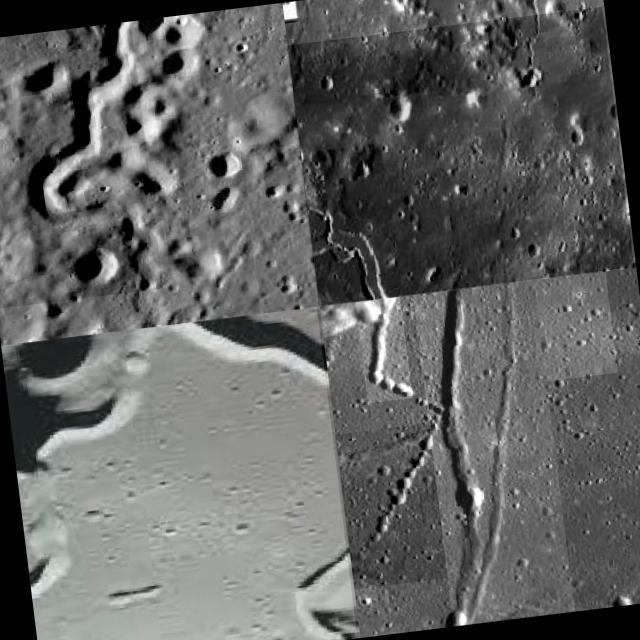rille: (0, 306, 356, 640), (286, 6, 634, 305), (413, 280, 574, 625), (0, 21, 162, 308), (400, 286, 528, 624), (355, 271, 618, 403), (334, 422, 450, 589)
